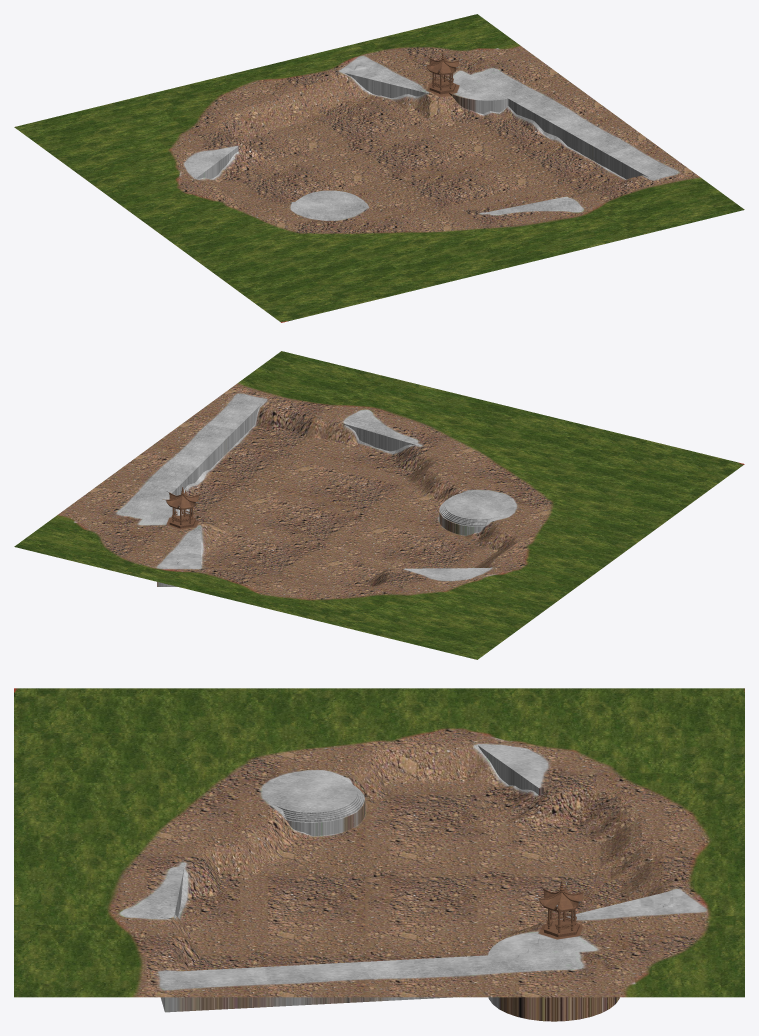
File: yanhu.dae
3 renders of one model, top to bottom at view 1: azimuth 30°, elevation 25°; view 2: azimuth 150°, elevation 25°; view 3: azimuth 270°, elevation 25°, orthographic. The views are drawn at different scales.
Visible parts, largest first — view 1: 小西湖; view 2: 小西湖; view 3: 小西湖.
Part boxes in pixels (<box>): 小西湖: <box>14,14,744,322</box>; 小西湖: <box>14,351,744,659</box>; 小西湖: <box>14,688,744,1021</box>.
Size of the model in its own units: 400 by 400 by 59.84.
Materials: 1 (1 with a texture image).
